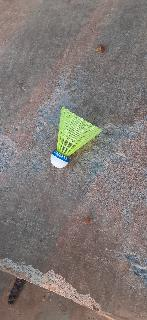shuttlecock: (50, 106, 101, 168)
